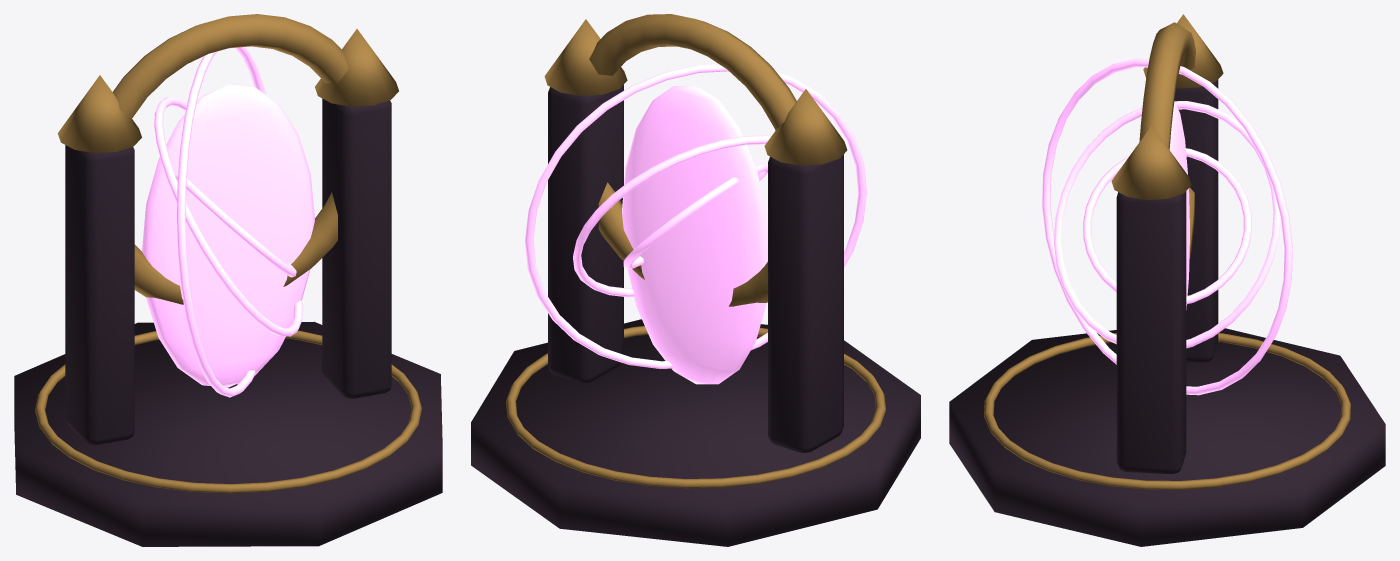
3 views of the same model, side by side, from view 1: azimuth 30°, elevation 25°; view 2: azimuth 150°, elevation 25°; view 3: azimuth 270°, elevation 25° (orthographic). The views are drawn at different scales.
Parts seen in each view (by area): view 1: Hexagonal plinth, Portal heart, Gate pillar, Gate pillar.001, Arched lintel, Inlaid rim, Resonance halo.002, Pillar crown, Pillar crown.001, Resonance halo.001, Resonance halo; view 2: Hexagonal plinth, Portal heart, Gate pillar, Gate pillar.001, Arched lintel, Resonance halo.002, Inlaid rim, Pillar crown, Pillar crown.001, Resonance halo.001, Resonance halo; view 3: Hexagonal plinth, Gate pillar.001, Gate pillar, Inlaid rim, Resonance halo.002, Resonance halo.001, Arched lintel, Pillar crown.001, Resonance halo, Pillar crown, Portal heart.
Part boxes in pixels (bbox=[...]): Hexagonal plinth: bbox=[14, 321, 442, 546]; Portal heart: bbox=[142, 84, 314, 387]; Gate pillar: bbox=[65, 145, 134, 444]; Gate pillar.001: bbox=[322, 98, 391, 398]; Arched lintel: bbox=[113, 14, 348, 304]; Inlaid rim: bbox=[35, 330, 421, 493]; Resonance halo.002: bbox=[177, 47, 266, 397]; Pillar crown: bbox=[57, 75, 141, 153]; Pillar crown.001: bbox=[315, 29, 398, 106]; Resonance halo.001: bbox=[154, 97, 302, 336]; Resonance halo: bbox=[175, 173, 296, 277]; Hexagonal plinth: bbox=[471, 319, 920, 546]; Portal heart: bbox=[622, 86, 767, 384]; Gate pillar: bbox=[768, 154, 843, 452]; Gate pillar.001: bbox=[548, 85, 623, 383]; Arched lintel: bbox=[589, 14, 796, 306]; Resonance halo.002: bbox=[525, 64, 866, 368]; Inlaid rim: bbox=[506, 326, 885, 488]; Pillar crown: bbox=[764, 89, 847, 165]; Pillar crown.001: bbox=[544, 19, 627, 95]; Resonance halo.001: bbox=[573, 135, 771, 297]; Resonance halo: bbox=[623, 163, 767, 269]; Hexagonal plinth: bbox=[949, 328, 1385, 546]; Gate pillar.001: bbox=[1116, 191, 1186, 474]; Gate pillar: bbox=[1174, 79, 1218, 362]; Inlaid rim: bbox=[984, 333, 1350, 489]; Resonance halo.002: bbox=[1042, 58, 1292, 395]; Resonance halo.001: bbox=[1054, 101, 1280, 348]; Arched lintel: bbox=[1139, 22, 1195, 264]; Pillar crown.001: bbox=[1111, 126, 1191, 199]; Resonance halo: bbox=[1083, 148, 1251, 304]; Pillar crown: bbox=[1143, 14, 1223, 88]; Portal heart: bbox=[1169, 101, 1189, 309].
Bounding box in the file's own units: 1.51 × 1.6 × 1.51.
